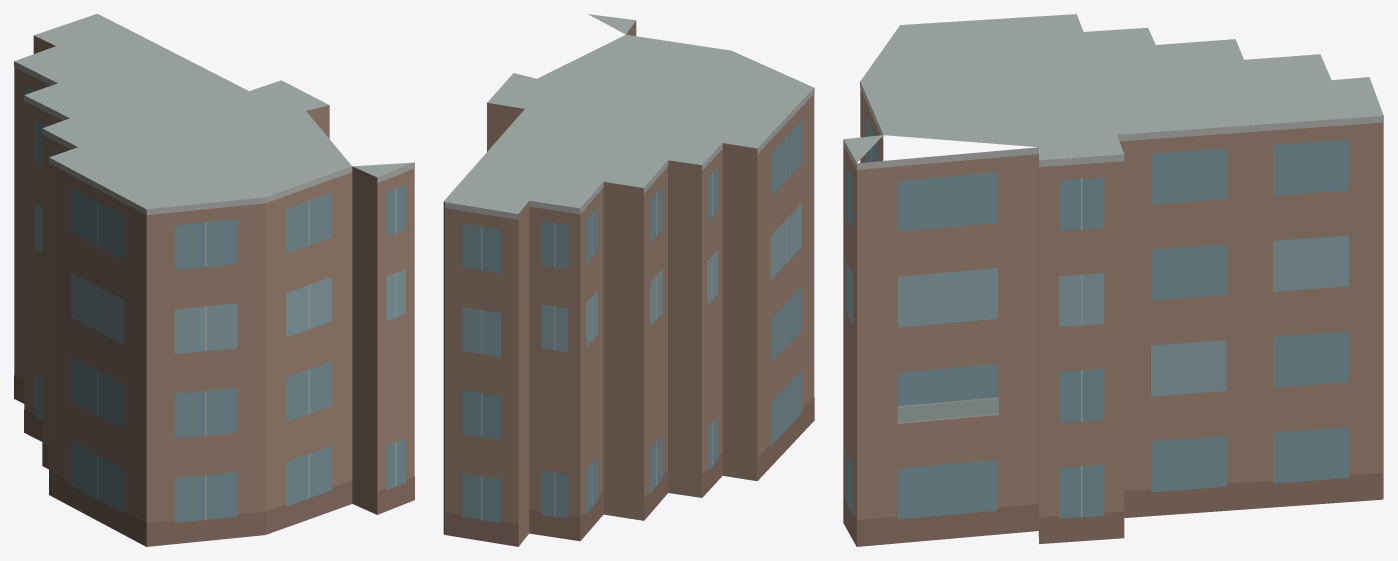
The model's file is survey-upis-32756765.glb.
3 renders of one model, left to right at view 1: azimuth 30°, elevation 25°; view 2: azimuth 150°, elevation 25°; view 3: azimuth 270°, elevation 25°, orthographic. The views are drawn at different scales.
Visible parts, largest first — view 1: survey-upis-32756765.tmp; view 2: survey-upis-32756765.tmp; view 3: survey-upis-32756765.tmp.
Part boxes in pixels (bbox=[...]): survey-upis-32756765.tmp: bbox=[14, 14, 414, 546]; survey-upis-32756765.tmp: bbox=[443, 14, 814, 546]; survey-upis-32756765.tmp: bbox=[843, 14, 1383, 546].
Bounding box in the file's own units: 11.61 × 13.9 × 17.75.
